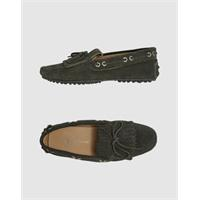shoe: (40, 120, 156, 162), (40, 47, 159, 84)
